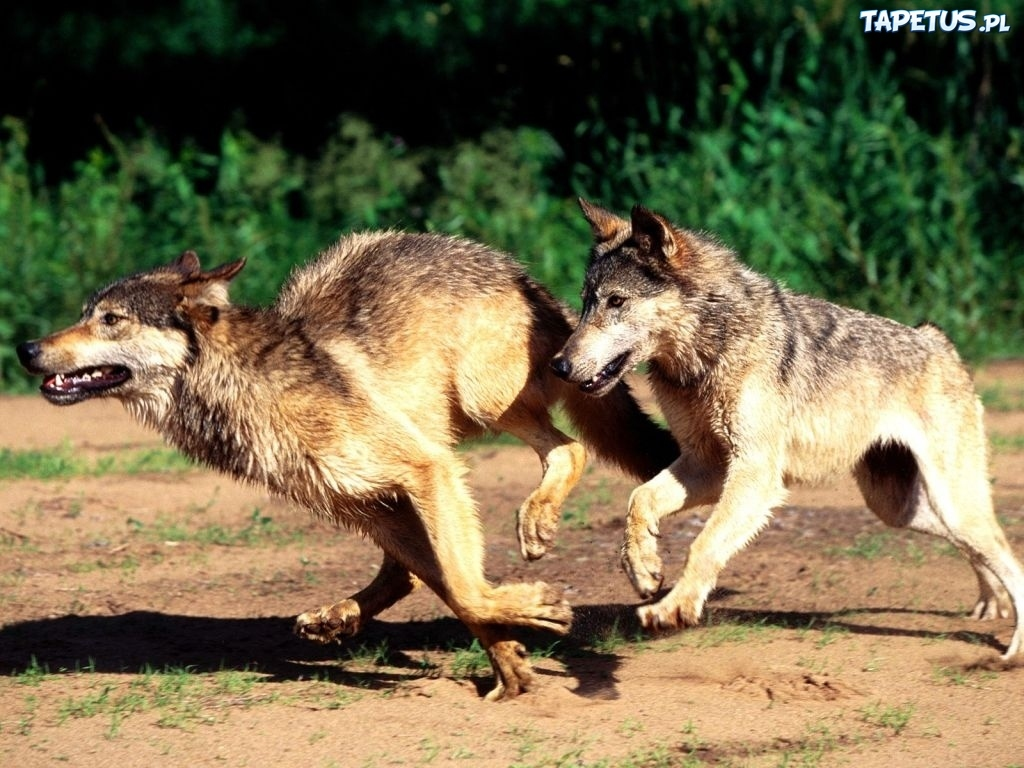wolf: (17, 201, 705, 718), (539, 184, 1024, 670)
